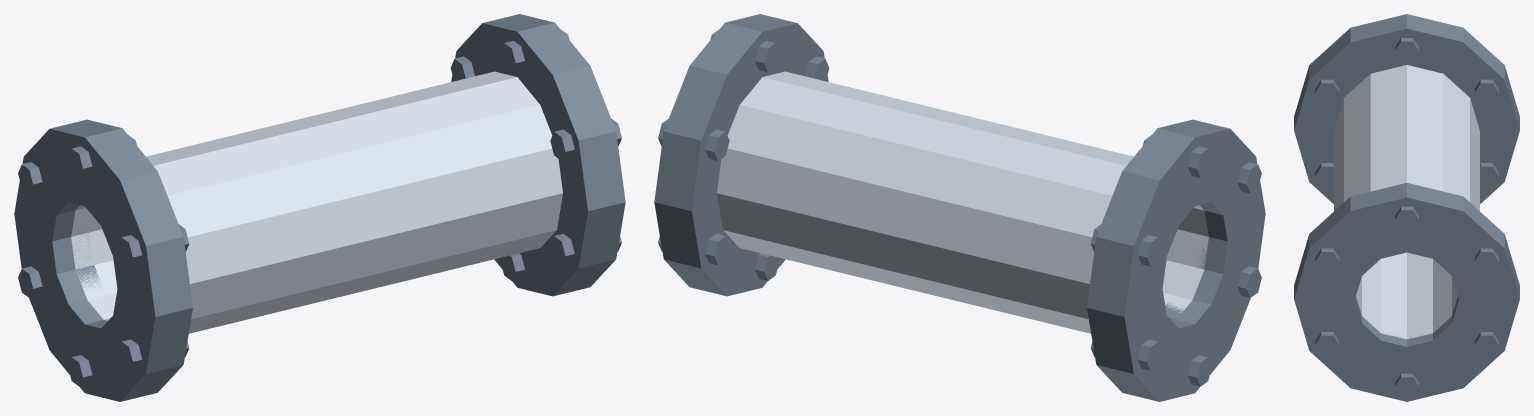
File: item_pipe_chrome.fbx
3 views of the same model, side by side, from view 1: azimuth 30°, elevation 25°; view 2: azimuth 150°, elevation 25°; view 3: azimuth 270°, elevation 25° (orthographic). The views are drawn at different scales.
Visible parts, largest first — view 1: item_pipe_chrome; view 2: item_pipe_chrome; view 3: item_pipe_chrome.
Part boxes in pixels (box(x1,y1,x2,y2)): item_pipe_chrome: box(14, 14, 625, 401); item_pipe_chrome: box(654, 14, 1265, 401); item_pipe_chrome: box(1294, 14, 1519, 401).
Bounding box in the file's own units: 2.6 × 1.3 × 1.3.
